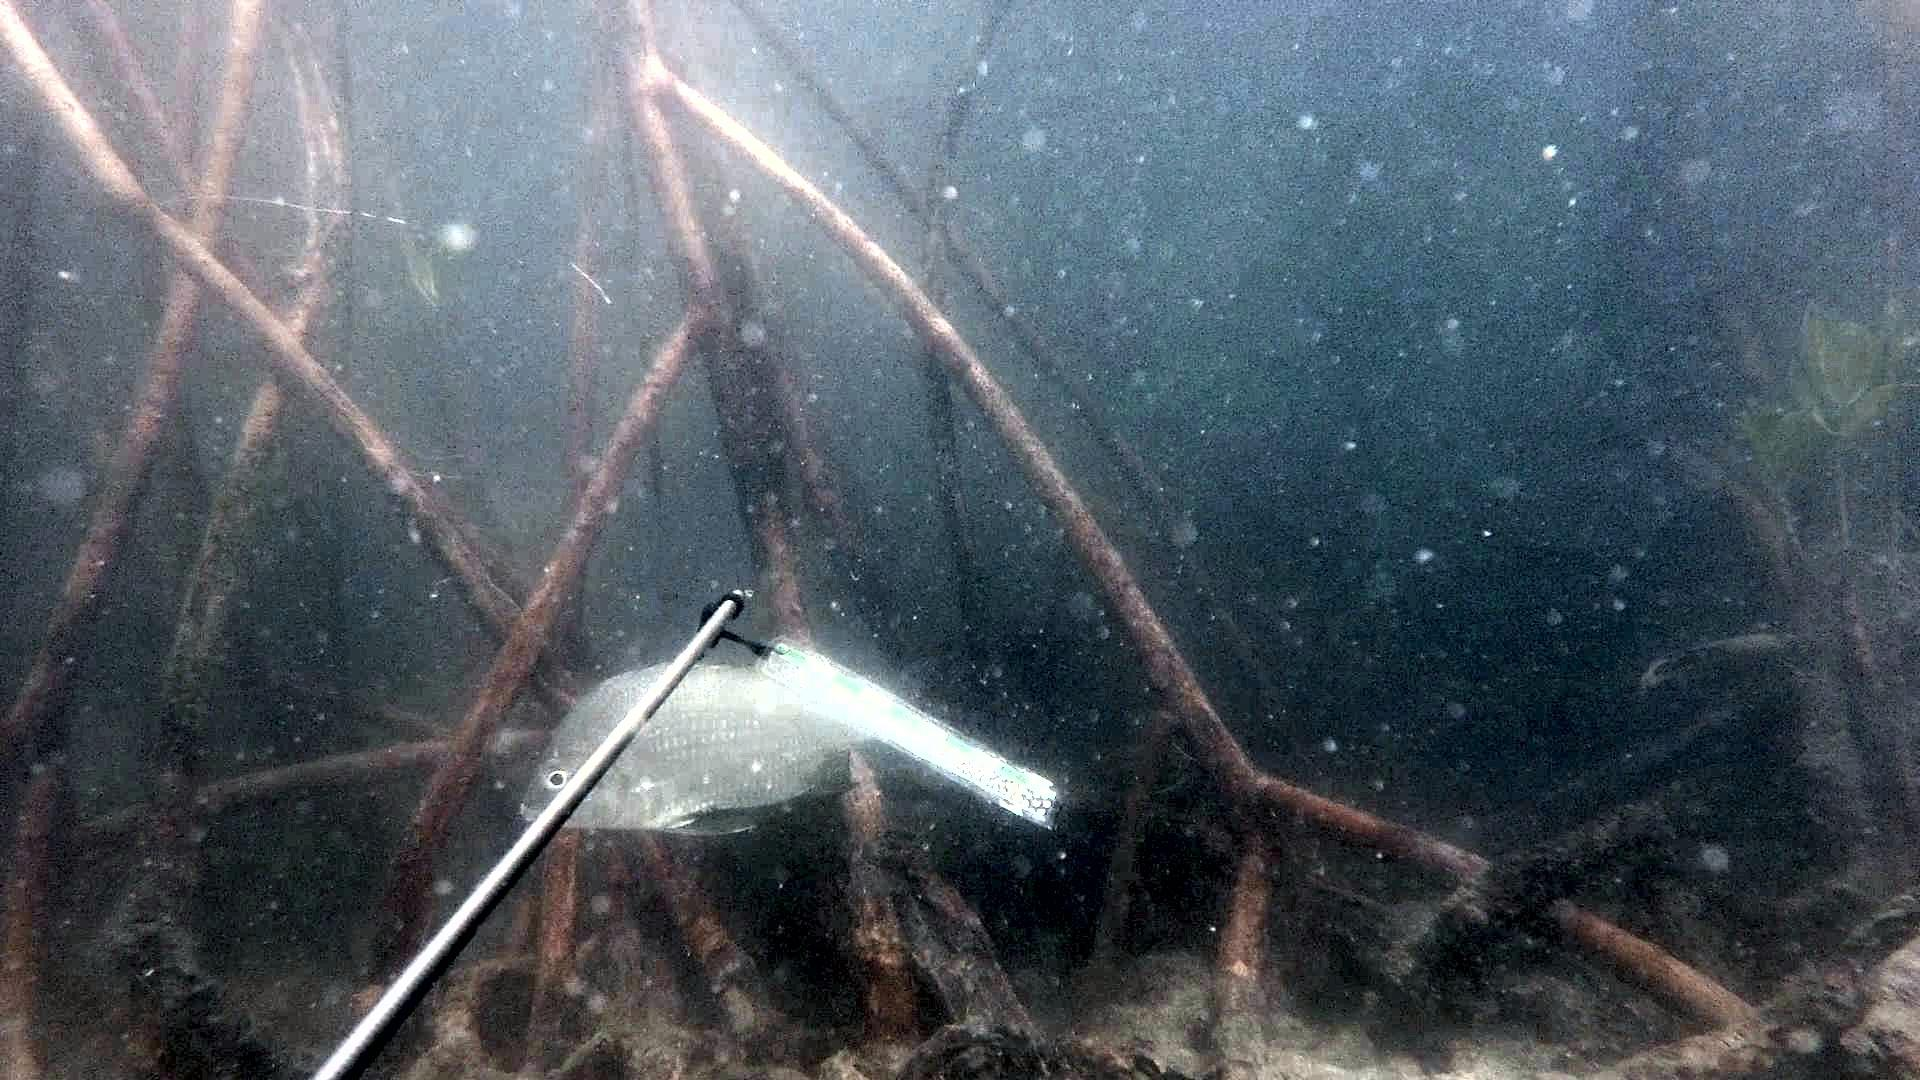acanthopagrus palmaris: (508, 638, 972, 847)
